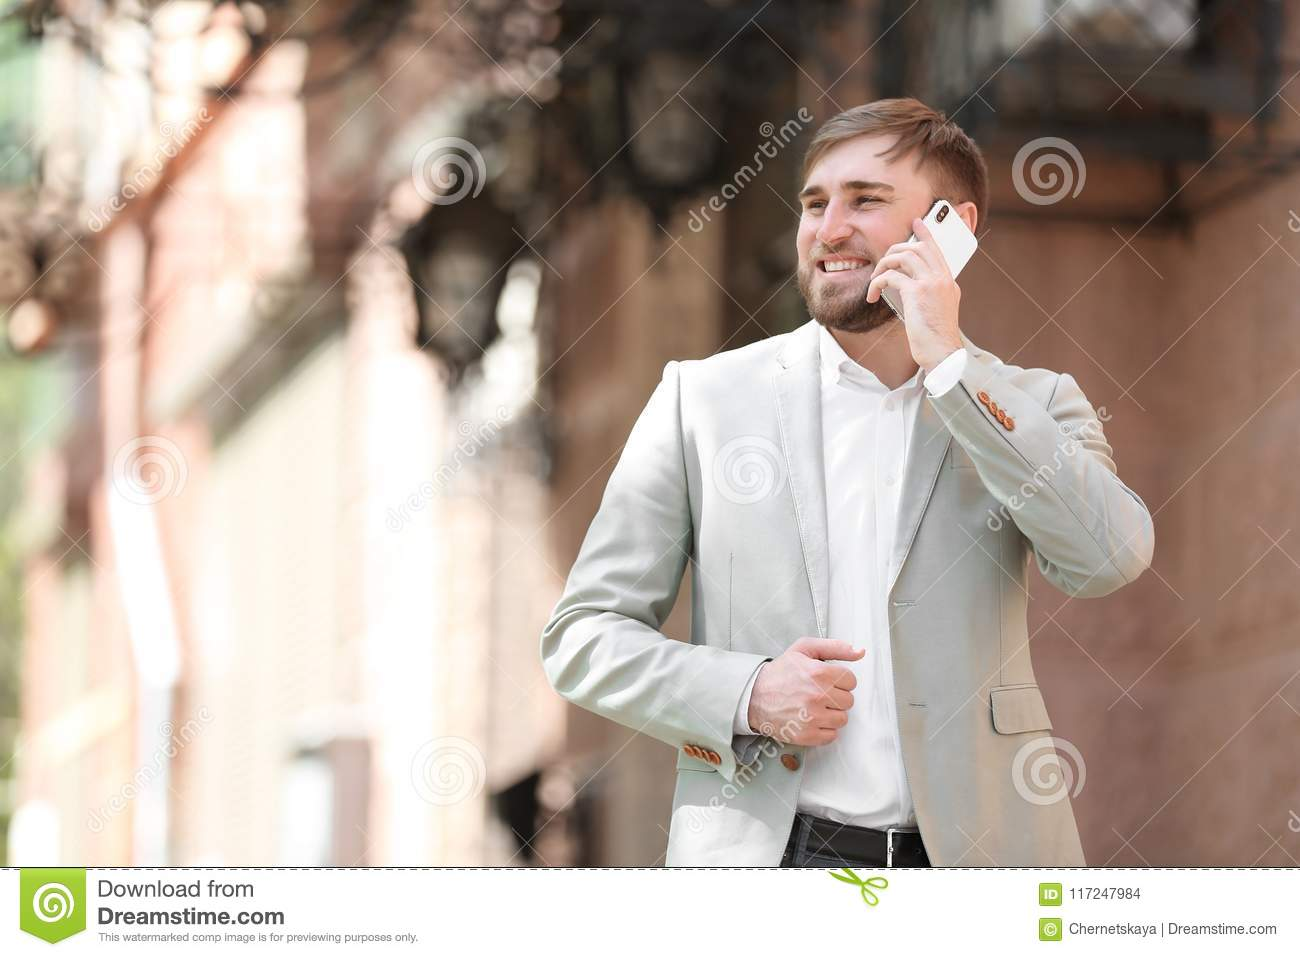phone: (881, 203, 978, 324)
talk: (792, 165, 983, 364)
